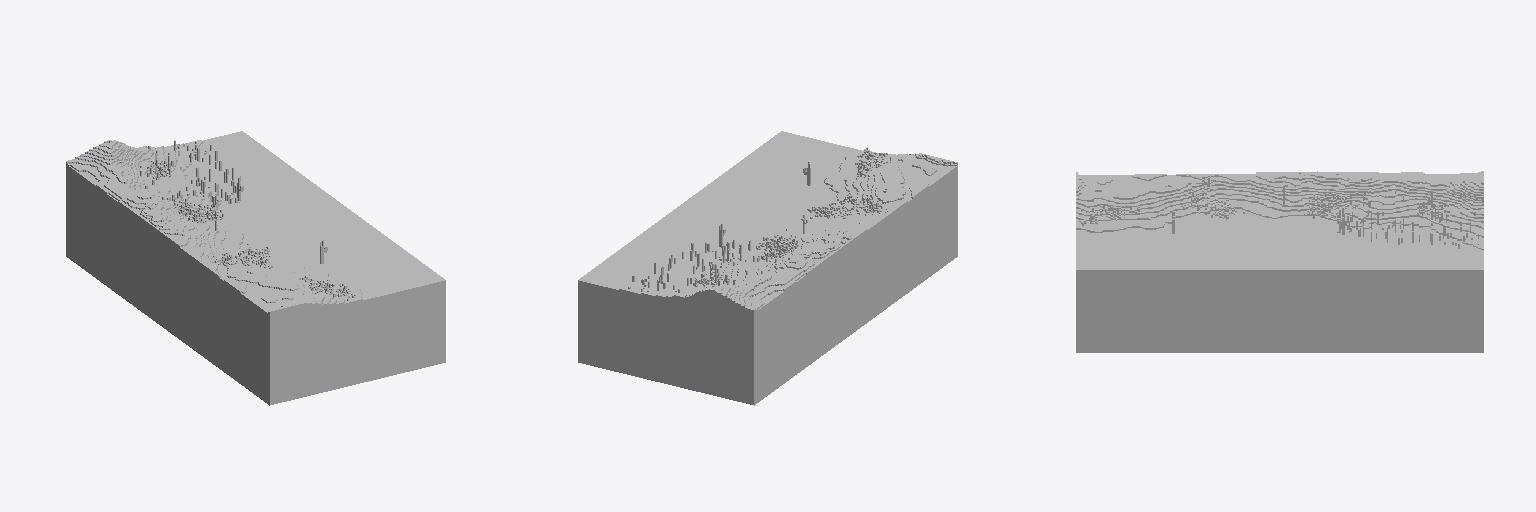
Rendered from Sunkeny City -  Voxel Desert-7-tile 7.obj.
3 views of the same model, side by side, from view 1: azimuth 30°, elevation 25°; view 2: azimuth 150°, elevation 25°; view 3: azimuth 270°, elevation 25° (orthographic).
Parts seen in each view (by area): view 1: tile 7; view 2: tile 7; view 3: tile 7.
Part boxes in pixels (bbox=[...]): tile 7: bbox=[66, 131, 445, 405]; tile 7: bbox=[578, 131, 957, 405]; tile 7: bbox=[1076, 171, 1483, 352].
Bounding box in the file's own units: 12.8 × 7.4 × 25.6.